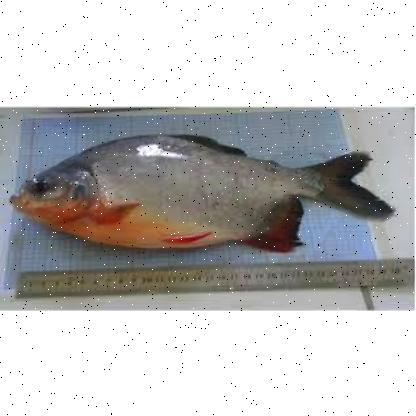ikan-pacu: (9, 133, 383, 249)
